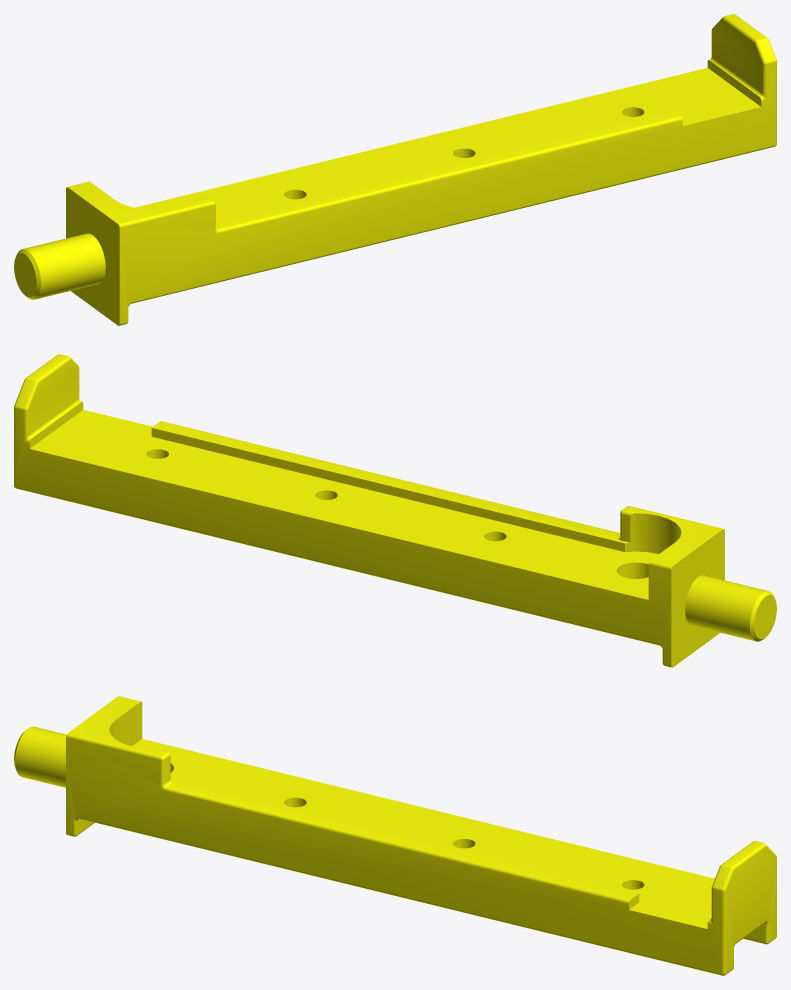
The model's file is nominal.obj.
3 renders of one model, top to bottom at view 1: azimuth 30°, elevation 25°; view 2: azimuth 150°, elevation 25°; view 3: azimuth 330°, elevation 25°, orthographic.
Parts seen in each view (by area): view 1: nominal; view 2: nominal; view 3: nominal.
Boxes of the visible parts, x1=… form: nominal: x1=14, y1=14, x2=776, y2=325; nominal: x1=14, y1=354, x2=776, y2=667; nominal: x1=14, y1=696, x2=776, y2=975.
Size of the model in its own units: 6.45 by 1.04 by 0.825.
